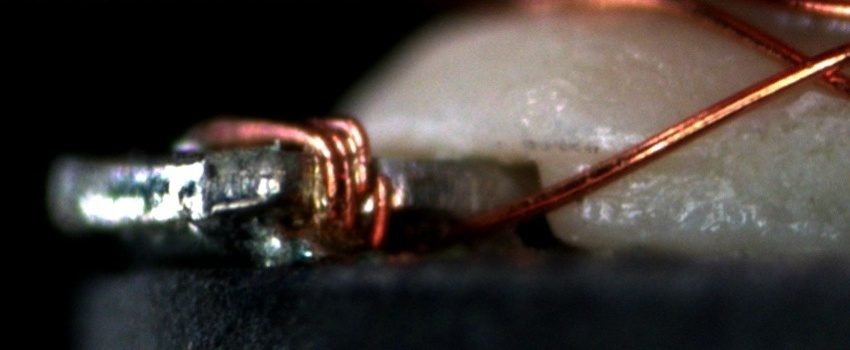CL: (764, 37, 847, 93)
DL: (573, 138, 702, 186)
TE: (187, 102, 397, 263)
